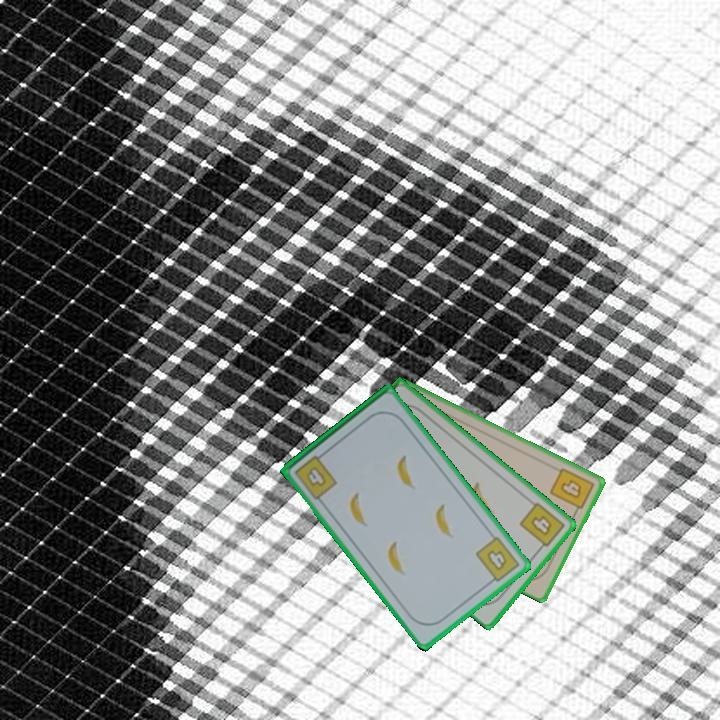4b: (516, 498, 568, 554), (472, 533, 523, 588), (546, 464, 597, 518), (291, 449, 340, 503)
